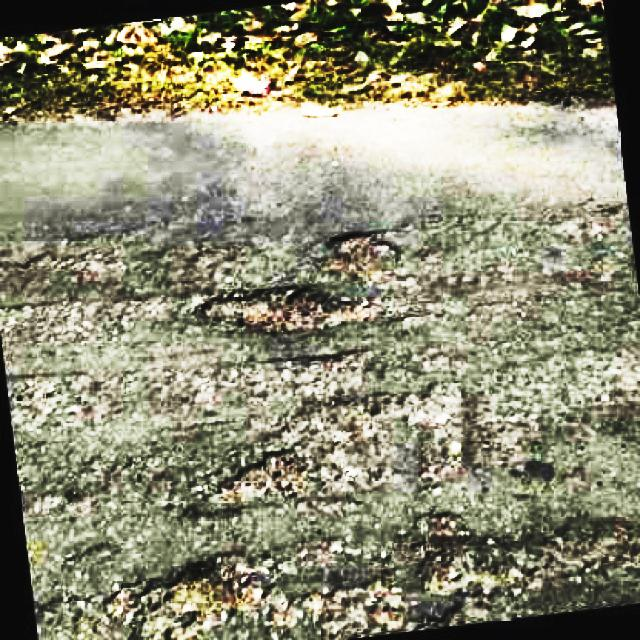pothole: (416, 537, 626, 635), (134, 554, 286, 640), (202, 282, 383, 336), (223, 442, 311, 503), (335, 231, 403, 275)
